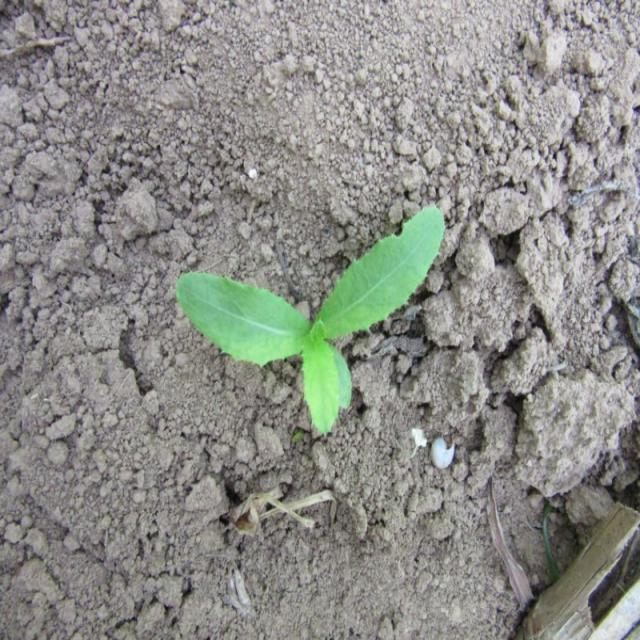field_thistle: (176, 204, 445, 423)
